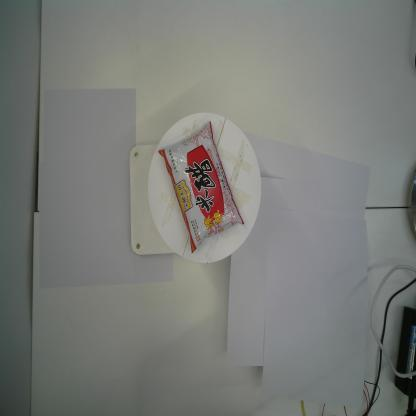Seasoner: (158, 121, 244, 254)
